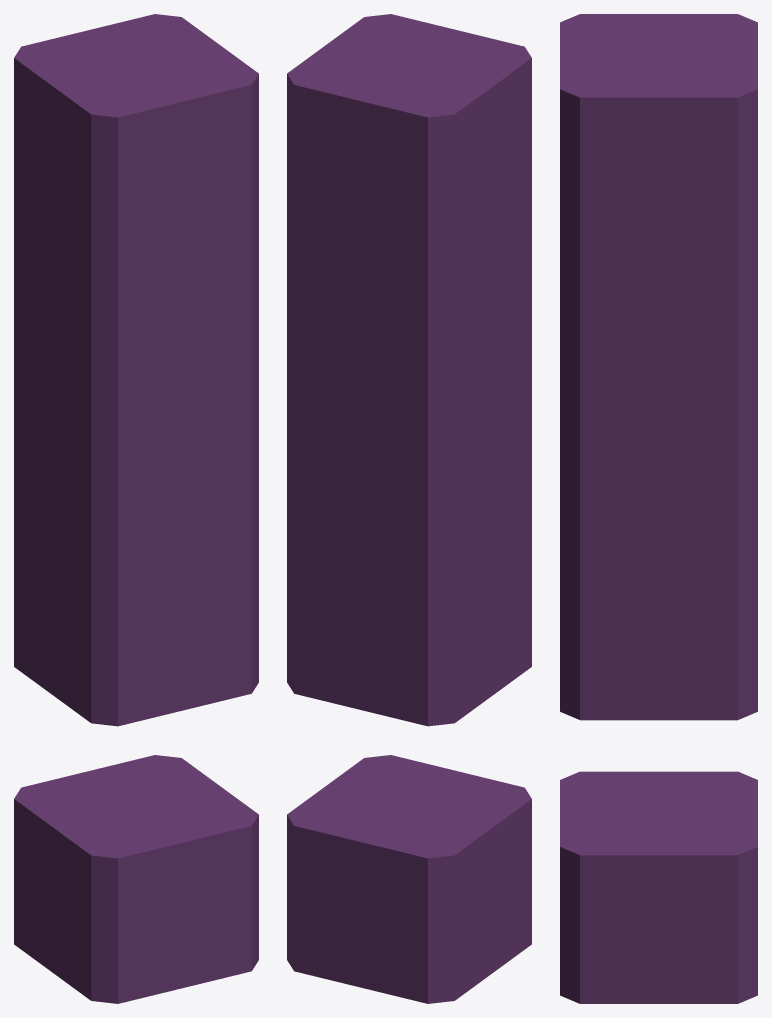
File: Warning-3.fbx
3 renders of one model, left to right at view 1: azimuth 30°, elevation 25°; view 2: azimuth 150°, elevation 25°; view 3: azimuth 270°, elevation 25°, orthographic. The views are drawn at different scales.
Visible parts, largest first — view 1: Cube.010; view 2: Cube.010; view 3: Cube.010.
Boxes of the visible parts, box(x1,y1,x2,y2) form: Cube.010: box(14, 14, 258, 1003); Cube.010: box(287, 14, 531, 1003); Cube.010: box(560, 14, 757, 1003).
Bounding box in the file's own units: 8.65 × 43.7 × 8.65.
